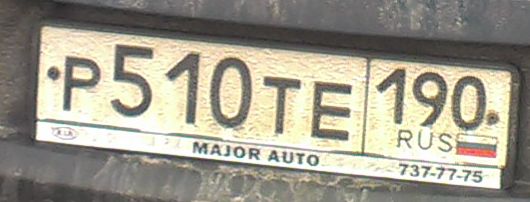character: (109, 41, 158, 122), (209, 50, 252, 130), (308, 75, 353, 149), (163, 48, 203, 130), (447, 66, 488, 135), (259, 74, 301, 141), (409, 65, 449, 132), (62, 55, 103, 118), (377, 65, 409, 129)
